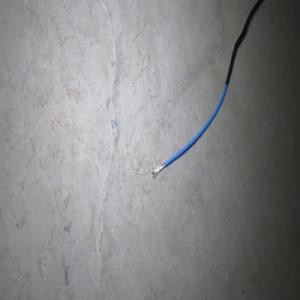Wire: (150, 0, 265, 178)
